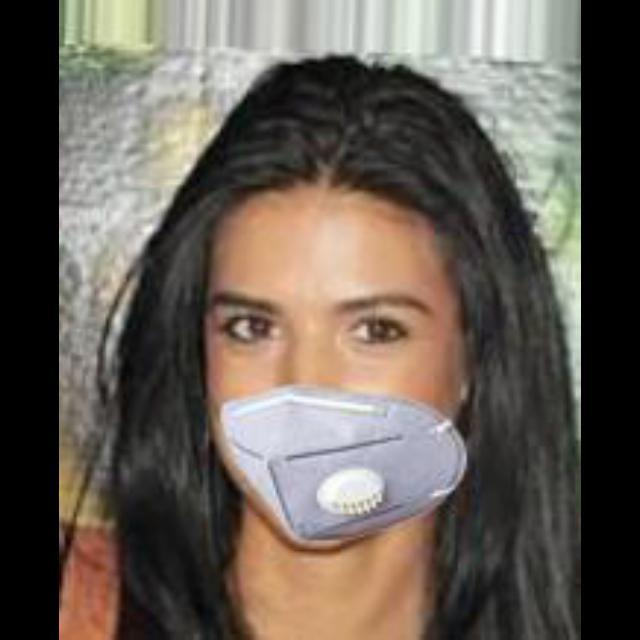suspicion: (158, 80, 530, 560)
